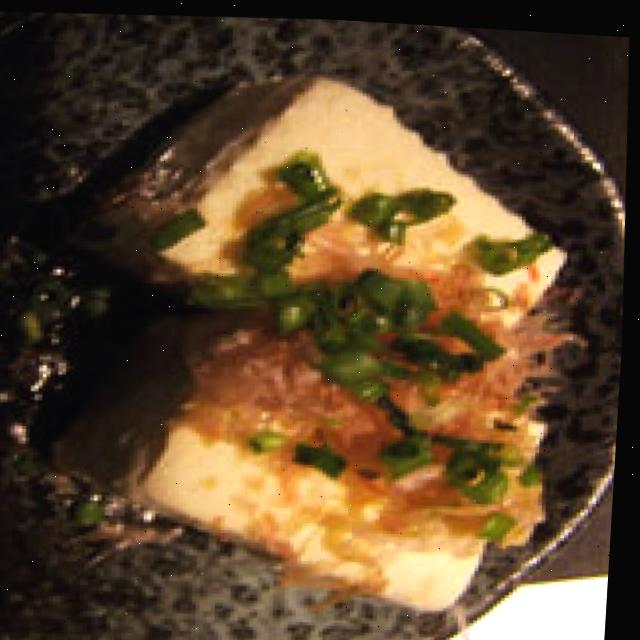豆腐料理: (78, 51, 589, 631)
